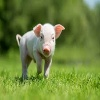heo: (16, 23, 66, 80)
